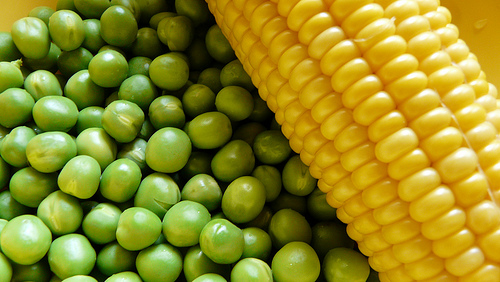corn: (201, 1, 499, 281)
